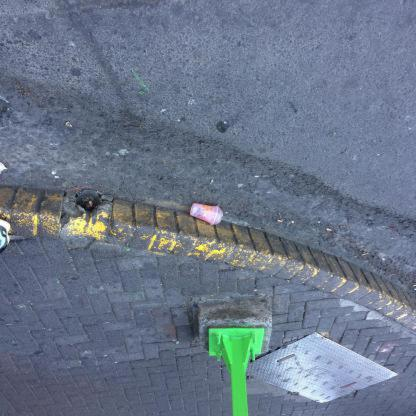Cigarette: (277, 220, 283, 223), (326, 228, 332, 231), (89, 202, 92, 207), (362, 254, 368, 256)
Cup: (190, 203, 223, 225)
Lid: (212, 206, 223, 225)
